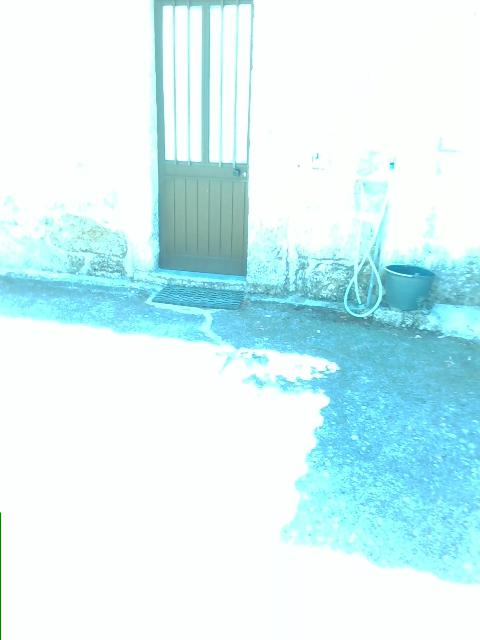door: (150, 0, 254, 276)
